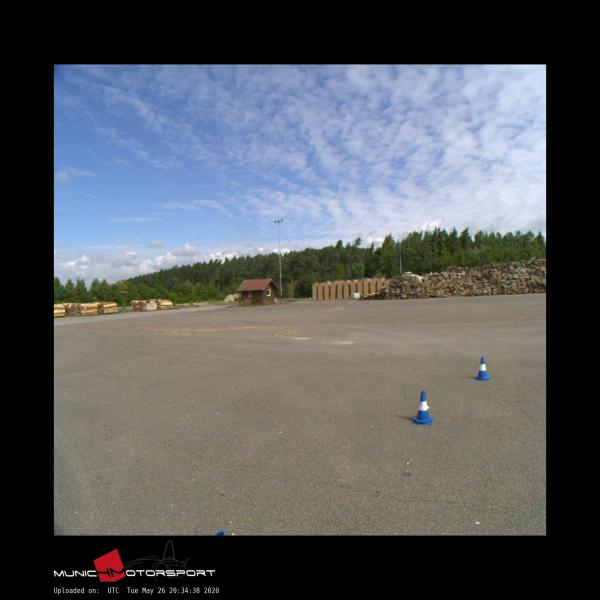blue_cone: (412, 390, 433, 424), (476, 357, 490, 380)
